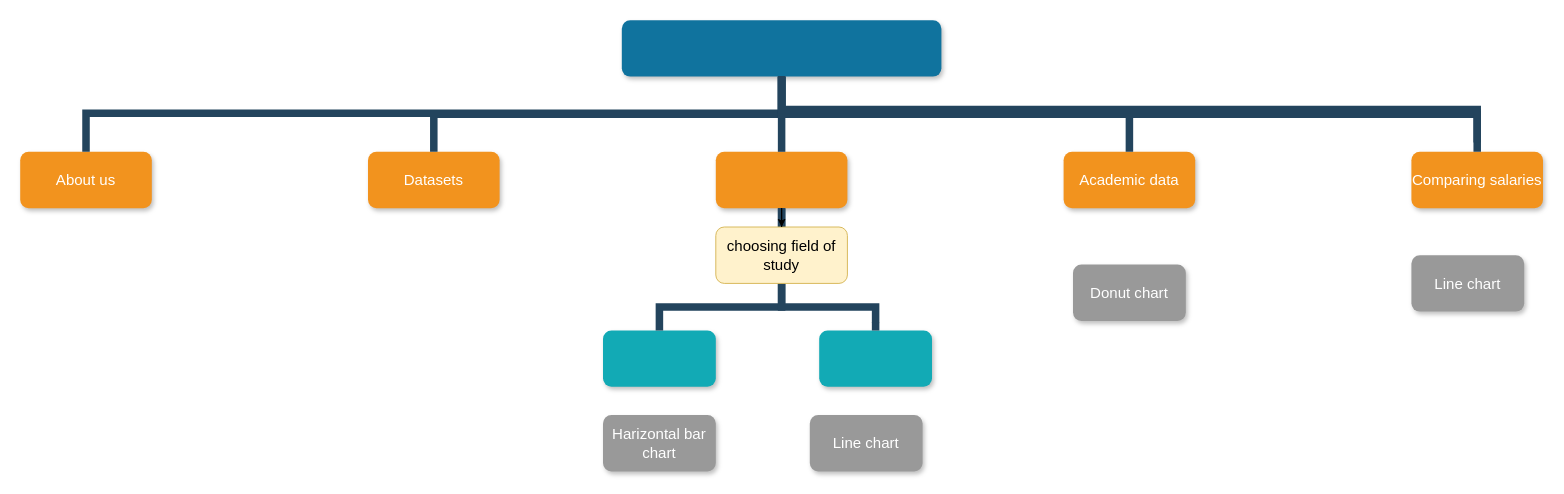
Image size: 1564x494. Some labels were removed from this diagram. The centre of each missing label's shape, as x and y in pixels:
Income: the point at 876,359
Income and unemployment rate: the point at 782,181
Landing page: the point at 782,49
Unemploymant rate: the point at 660,359
